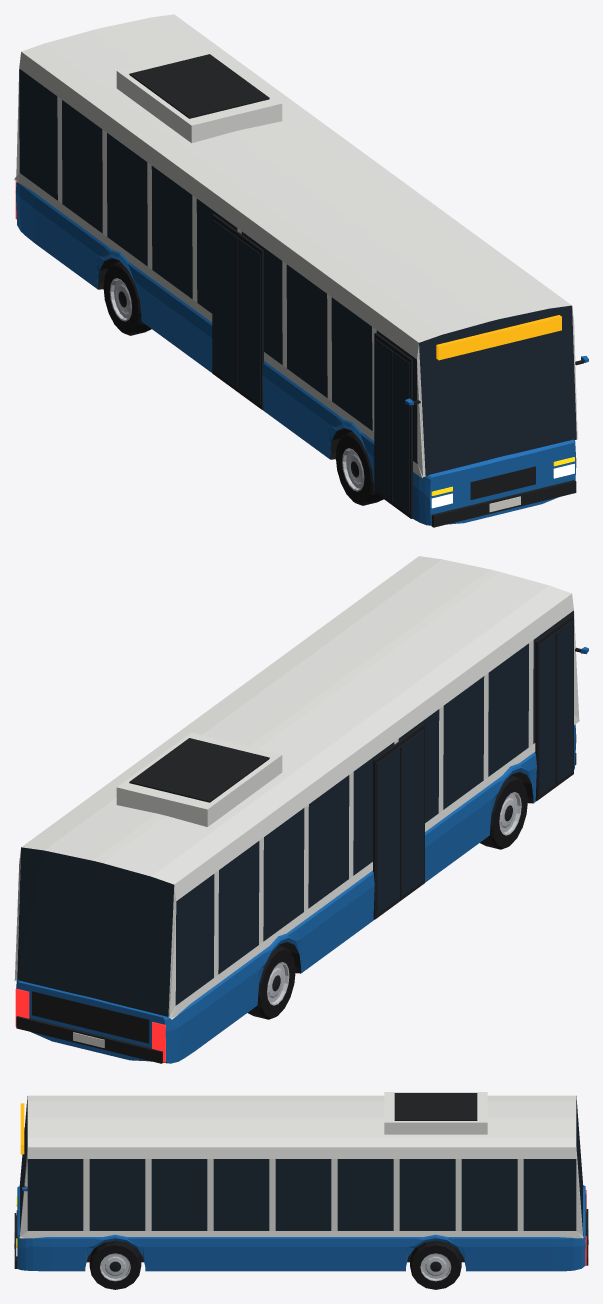
Rendered from city-bus-01.glb.
The picture shows the model from 3 angles, top to bottom: view 1: azimuth 30°, elevation 25°; view 2: azimuth 150°, elevation 25°; view 3: azimuth 270°, elevation 25°; orthographic projection. The views are drawn at different scales.
Visible parts, largest first — view 1: Body, Wheel_FR, Wheel_RR; view 2: Body, Wheel_RR, Wheel_FR; view 3: Body, Wheel_FL, Wheel_RL.
Boxes of the visible parts, x1,y1,x2,y2 form: Body: [14, 14, 588, 527]; Wheel_FR: [335, 431, 383, 505]; Wheel_RR: [103, 261, 151, 335]; Body: [14, 556, 588, 1063]; Wheel_RR: [248, 945, 295, 1019]; Wheel_FR: [480, 775, 527, 849]; Body: [14, 1092, 588, 1271]; Wheel_FL: [89, 1240, 141, 1289]; Wheel_RL: [410, 1240, 461, 1289].
Bounding box in the file's own units: 2.8 × 3.37 × 11.12.
